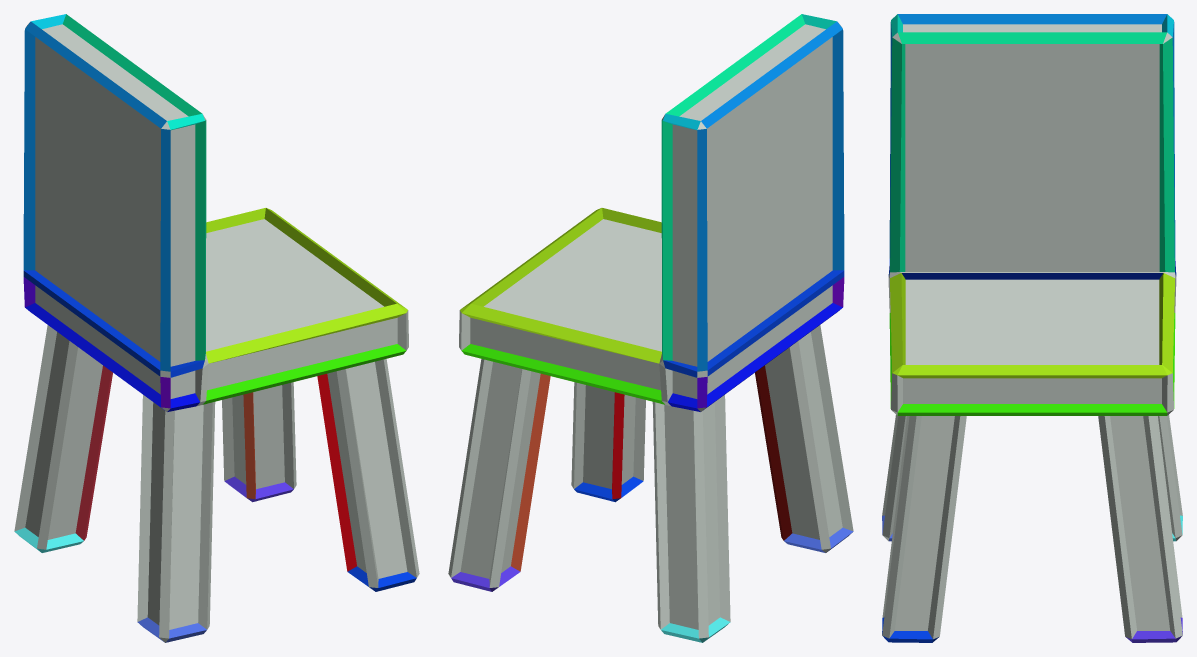
Rendered from Chair.fbx.
3 views of the same model, side by side, from view 1: azimuth 30°, elevation 25°; view 2: azimuth 150°, elevation 25°; view 3: azimuth 270°, elevation 25° (orthographic).
Visible parts, largest first — view 1: Chair; view 2: Chair; view 3: Chair.
Boxes of the visible parts, box(x1,y1,x2,y2) form: Chair: box(14, 14, 419, 642); Chair: box(448, 14, 853, 642); Chair: box(882, 14, 1182, 642).
Size of the model in its own units: 224 by 425 by 226.
